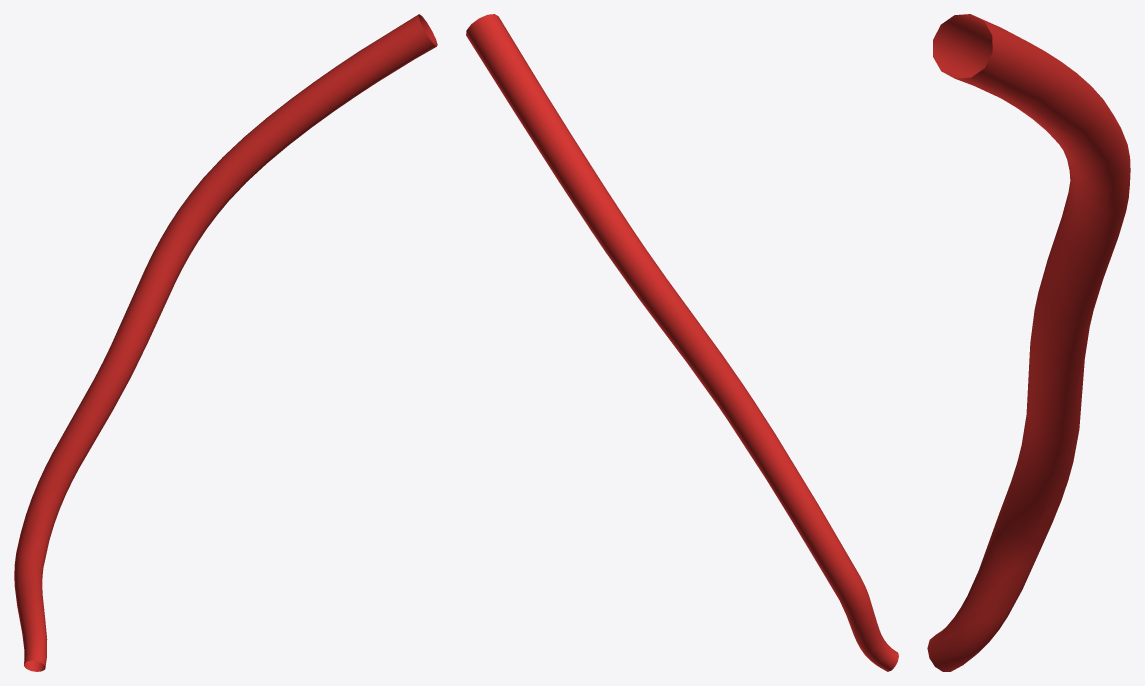
File: circulatorio-lateral-tarsal-artery-r.glb
3 renders of one model, left to right at view 1: azimuth 30°, elevation 25°; view 2: azimuth 150°, elevation 25°; view 3: azimuth 270°, elevation 25°, orthographic. The views are drawn at different scales.
Visible parts, largest first — view 1: Lateral tarsal artery.r; view 2: Lateral tarsal artery.r; view 3: Lateral tarsal artery.r.
Boxes of the visible parts, box(x1,y1,x2,y2) form: Lateral tarsal artery.r: box(14, 14, 437, 671); Lateral tarsal artery.r: box(466, 14, 898, 671); Lateral tarsal artery.r: box(927, 14, 1130, 671).
Size of the model in its own units: 0.0386 by 0.0493 by 0.00913.
